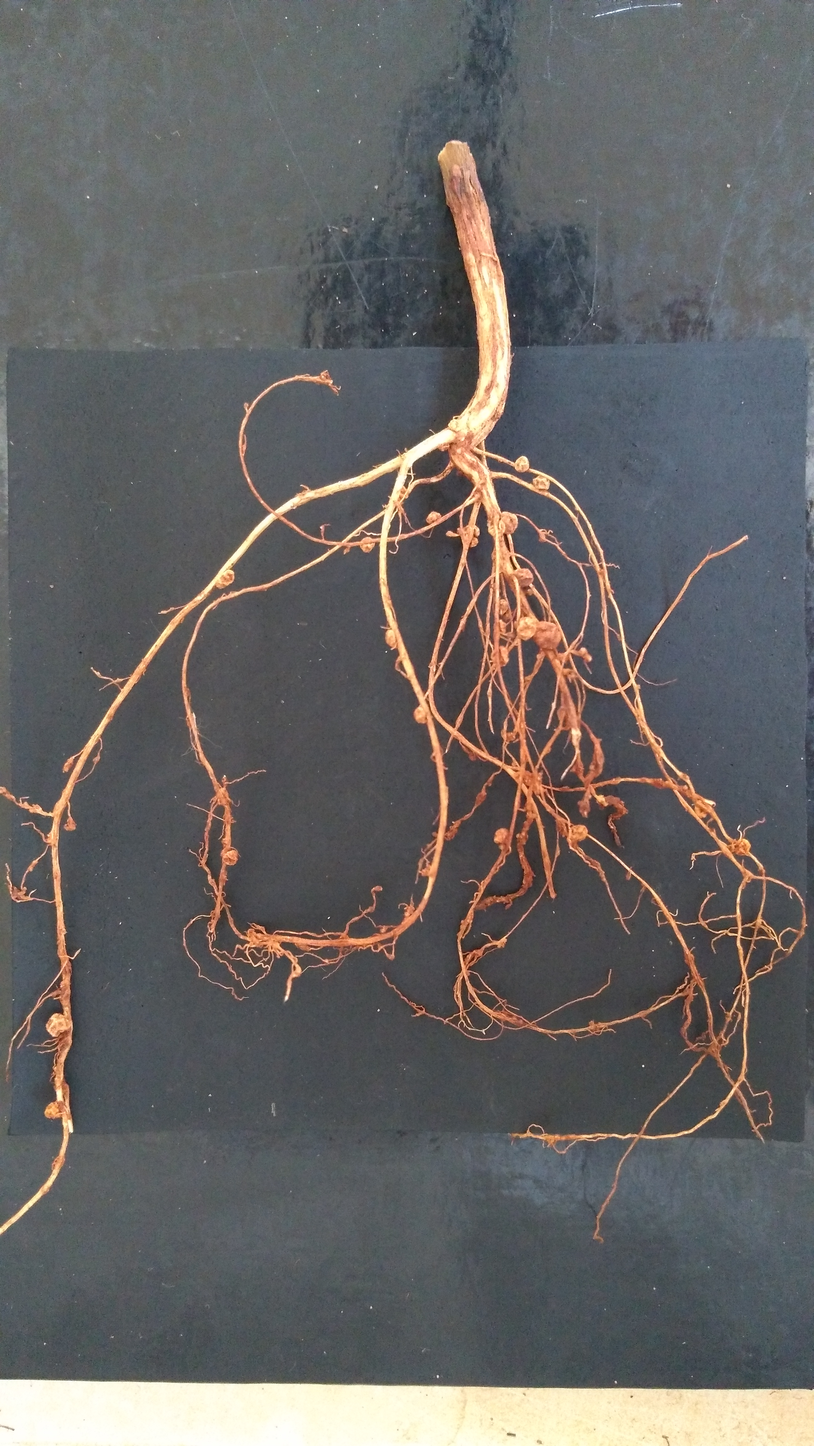nodule: (533, 621, 562, 649), (45, 1013, 71, 1036), (516, 617, 538, 641), (459, 524, 479, 548), (512, 568, 534, 588), (500, 511, 518, 535), (490, 646, 509, 668), (44, 1101, 66, 1119), (566, 824, 588, 842), (216, 569, 235, 589), (694, 797, 710, 818), (488, 519, 506, 537), (414, 705, 431, 724), (733, 838, 752, 855), (385, 629, 401, 649), (493, 598, 509, 617), (532, 770, 543, 797), (494, 827, 511, 844), (532, 475, 550, 491), (216, 787, 231, 806), (222, 849, 238, 866), (514, 456, 529, 473), (360, 537, 375, 553), (426, 510, 442, 524), (561, 668, 578, 681), (493, 620, 508, 634), (579, 647, 592, 662), (63, 817, 76, 832), (448, 418, 464, 430), (294, 941, 311, 952), (523, 770, 533, 786), (496, 937, 507, 949), (10, 885, 21, 897), (31, 803, 44, 813), (246, 927, 257, 938), (557, 652, 569, 662), (537, 531, 547, 543), (399, 486, 408, 499), (504, 732, 516, 741), (438, 443, 451, 451), (468, 752, 477, 761), (406, 906, 414, 915), (526, 813, 538, 819), (526, 588, 533, 596), (380, 926, 387, 933), (404, 912, 411, 917), (22, 801, 28, 806), (515, 833, 520, 838)
